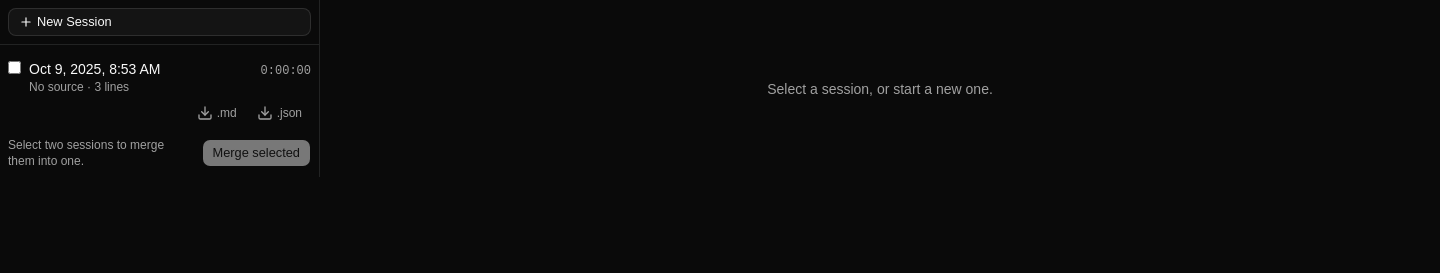
it: History › computes talk-time shares from the record and applies the palette fallback
Click the button "Oct 9, 2025, 8:53 AM 0:00:00 No source · 3 lines" at [95, 69], box [21,53,319,101]
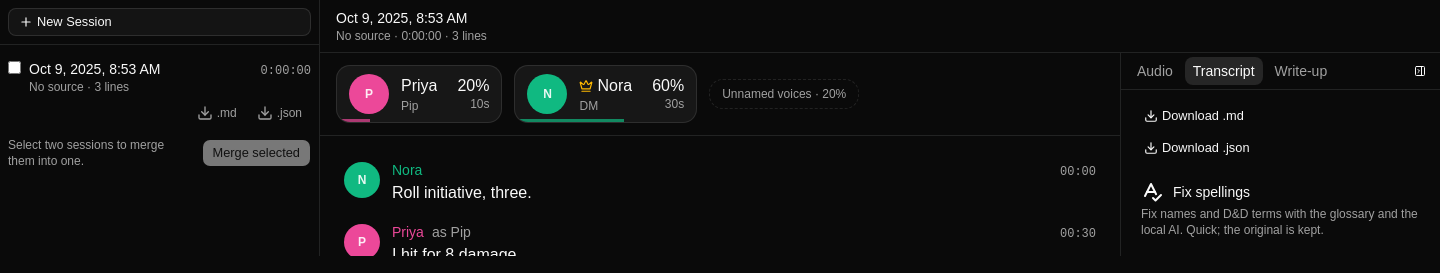
Check: the element with test id "talk-share" shows "60%", box [652,77,684,94]
Check: the element with test id "talk-share" shows "20%", box [458,77,490,94]
Check: the text with test id "unnamed-share" reads "Unnamed voices · 20%", box [709,79,859,109]
